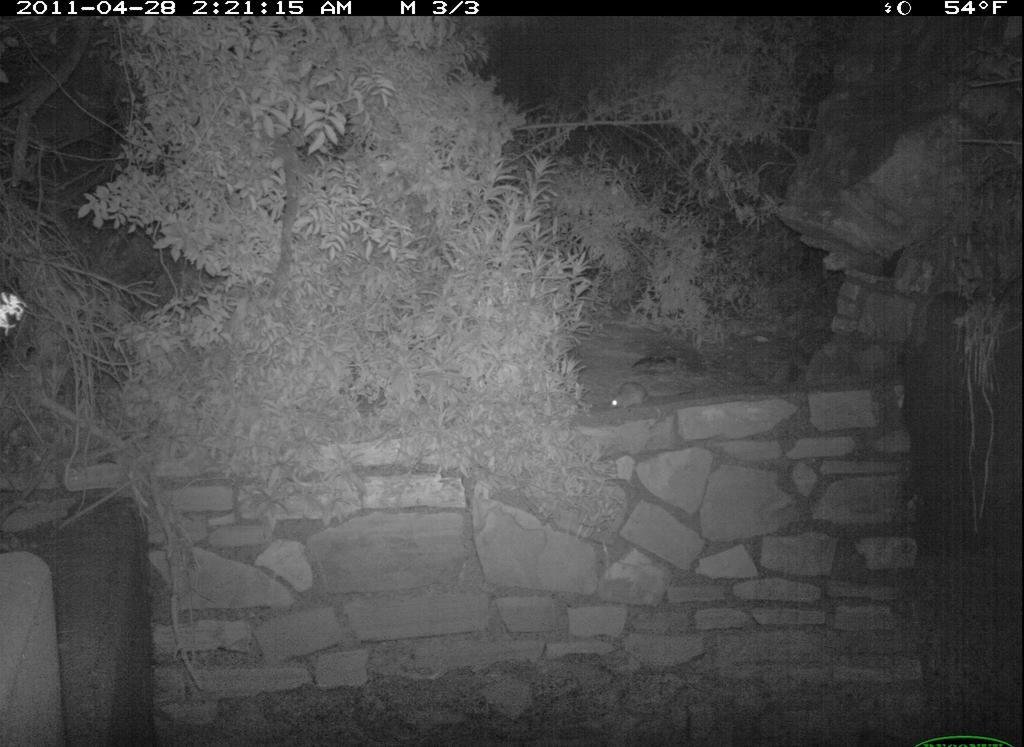rodent: (605, 379, 693, 413)
